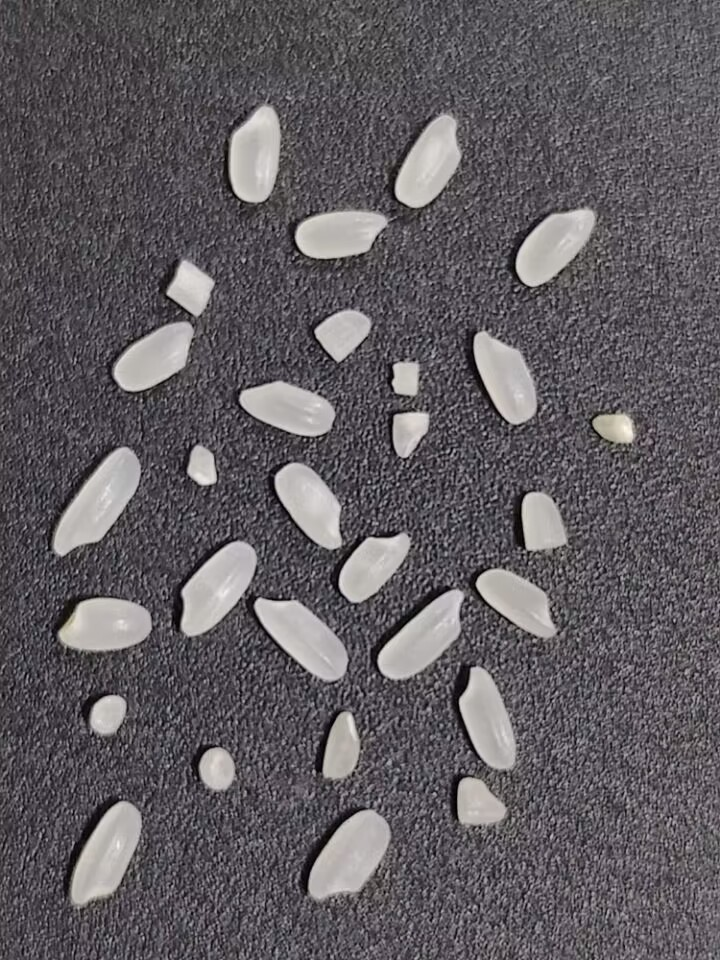broken: (310, 305, 377, 363), (162, 254, 219, 319), (454, 773, 513, 831), (519, 488, 569, 556), (319, 707, 363, 783), (382, 405, 437, 462), (193, 742, 242, 795), (586, 409, 644, 447), (180, 438, 223, 489), (85, 692, 127, 737), (386, 356, 429, 398)
rice: (51, 442, 146, 558), (373, 583, 469, 681), (252, 589, 348, 684), (178, 538, 260, 640), (306, 809, 391, 901), (388, 110, 466, 210), (106, 316, 197, 398), (71, 801, 142, 904), (270, 460, 349, 552), (470, 327, 539, 428), (458, 660, 518, 774), (512, 206, 597, 286), (331, 527, 414, 607), (474, 566, 561, 642), (237, 376, 338, 438), (52, 596, 153, 653), (227, 104, 282, 204), (288, 208, 389, 260)
